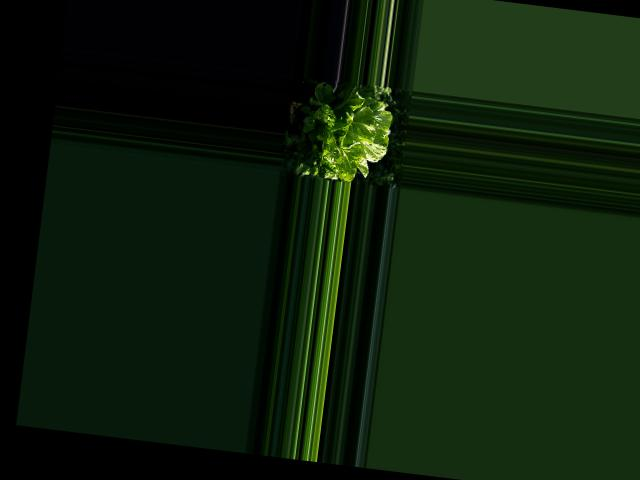lettuce: (300, 80, 394, 176)
